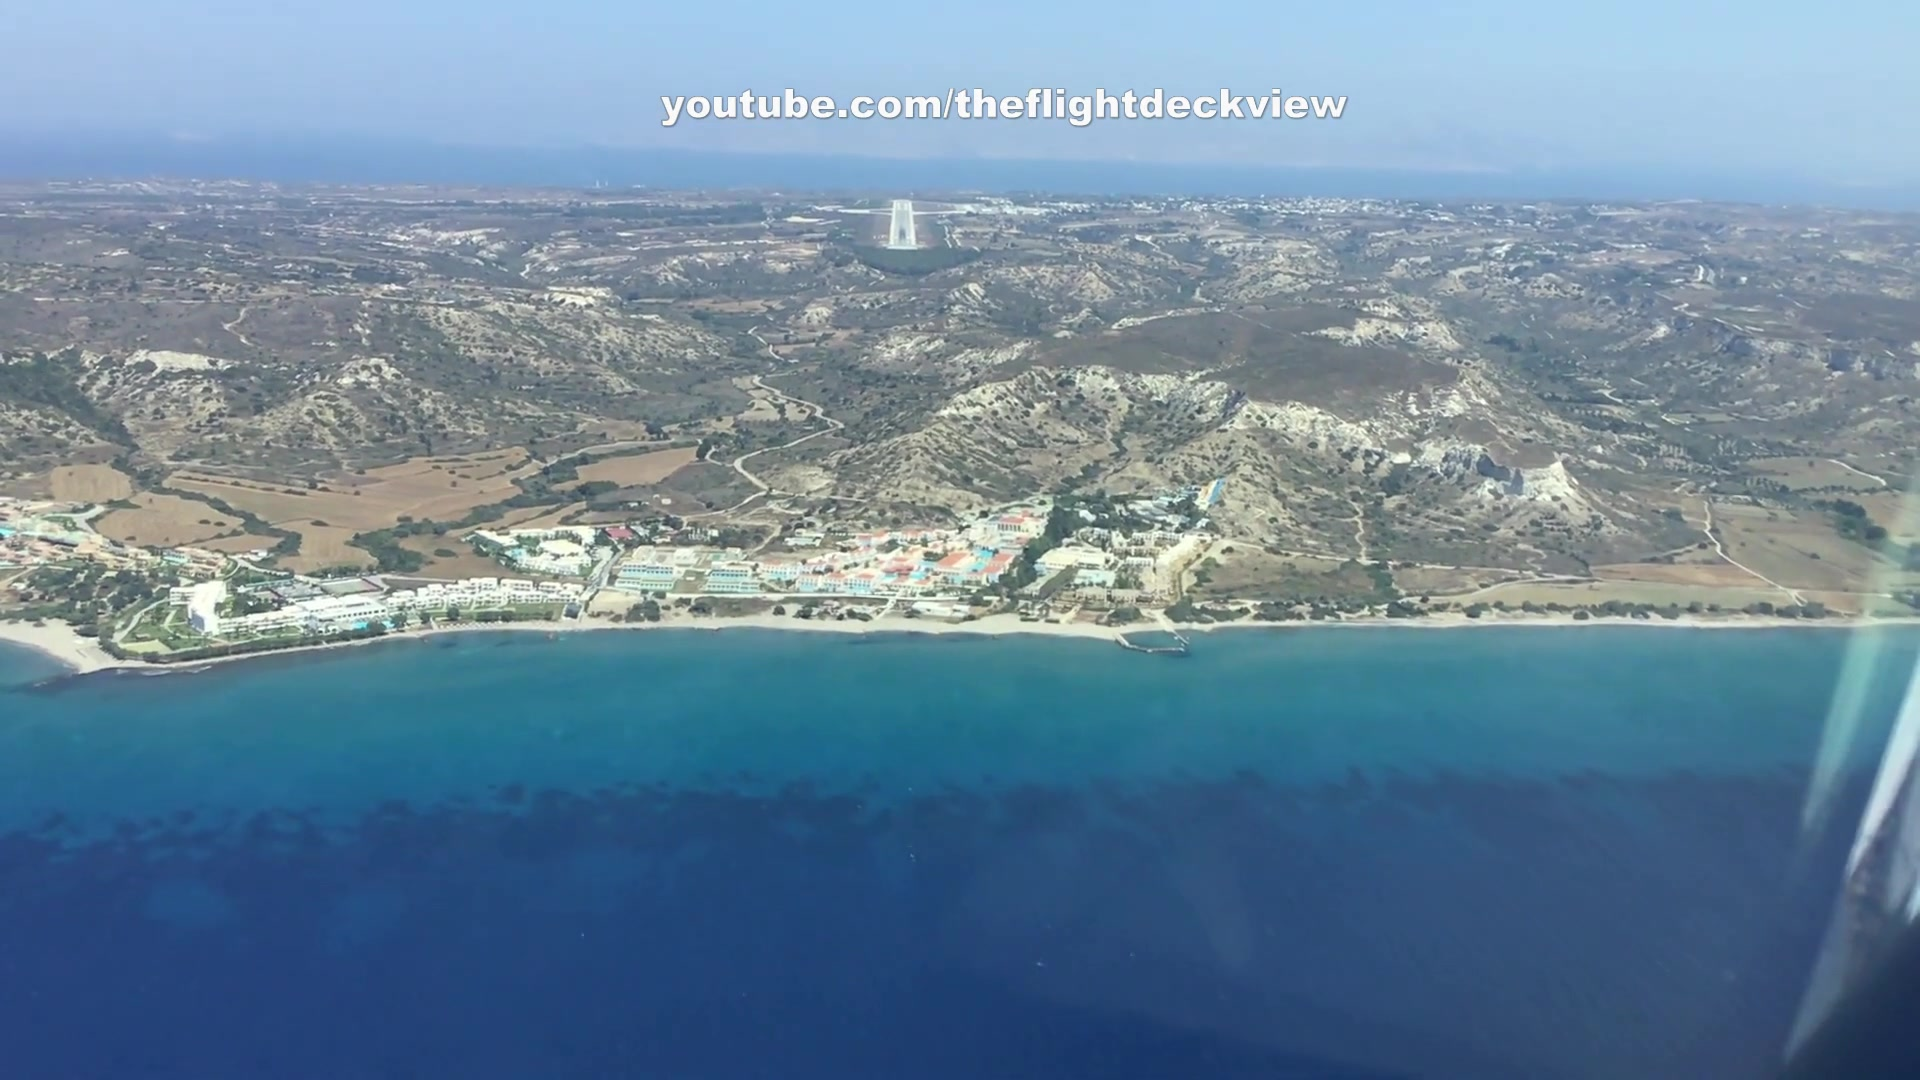runway: (886, 198, 919, 252)
